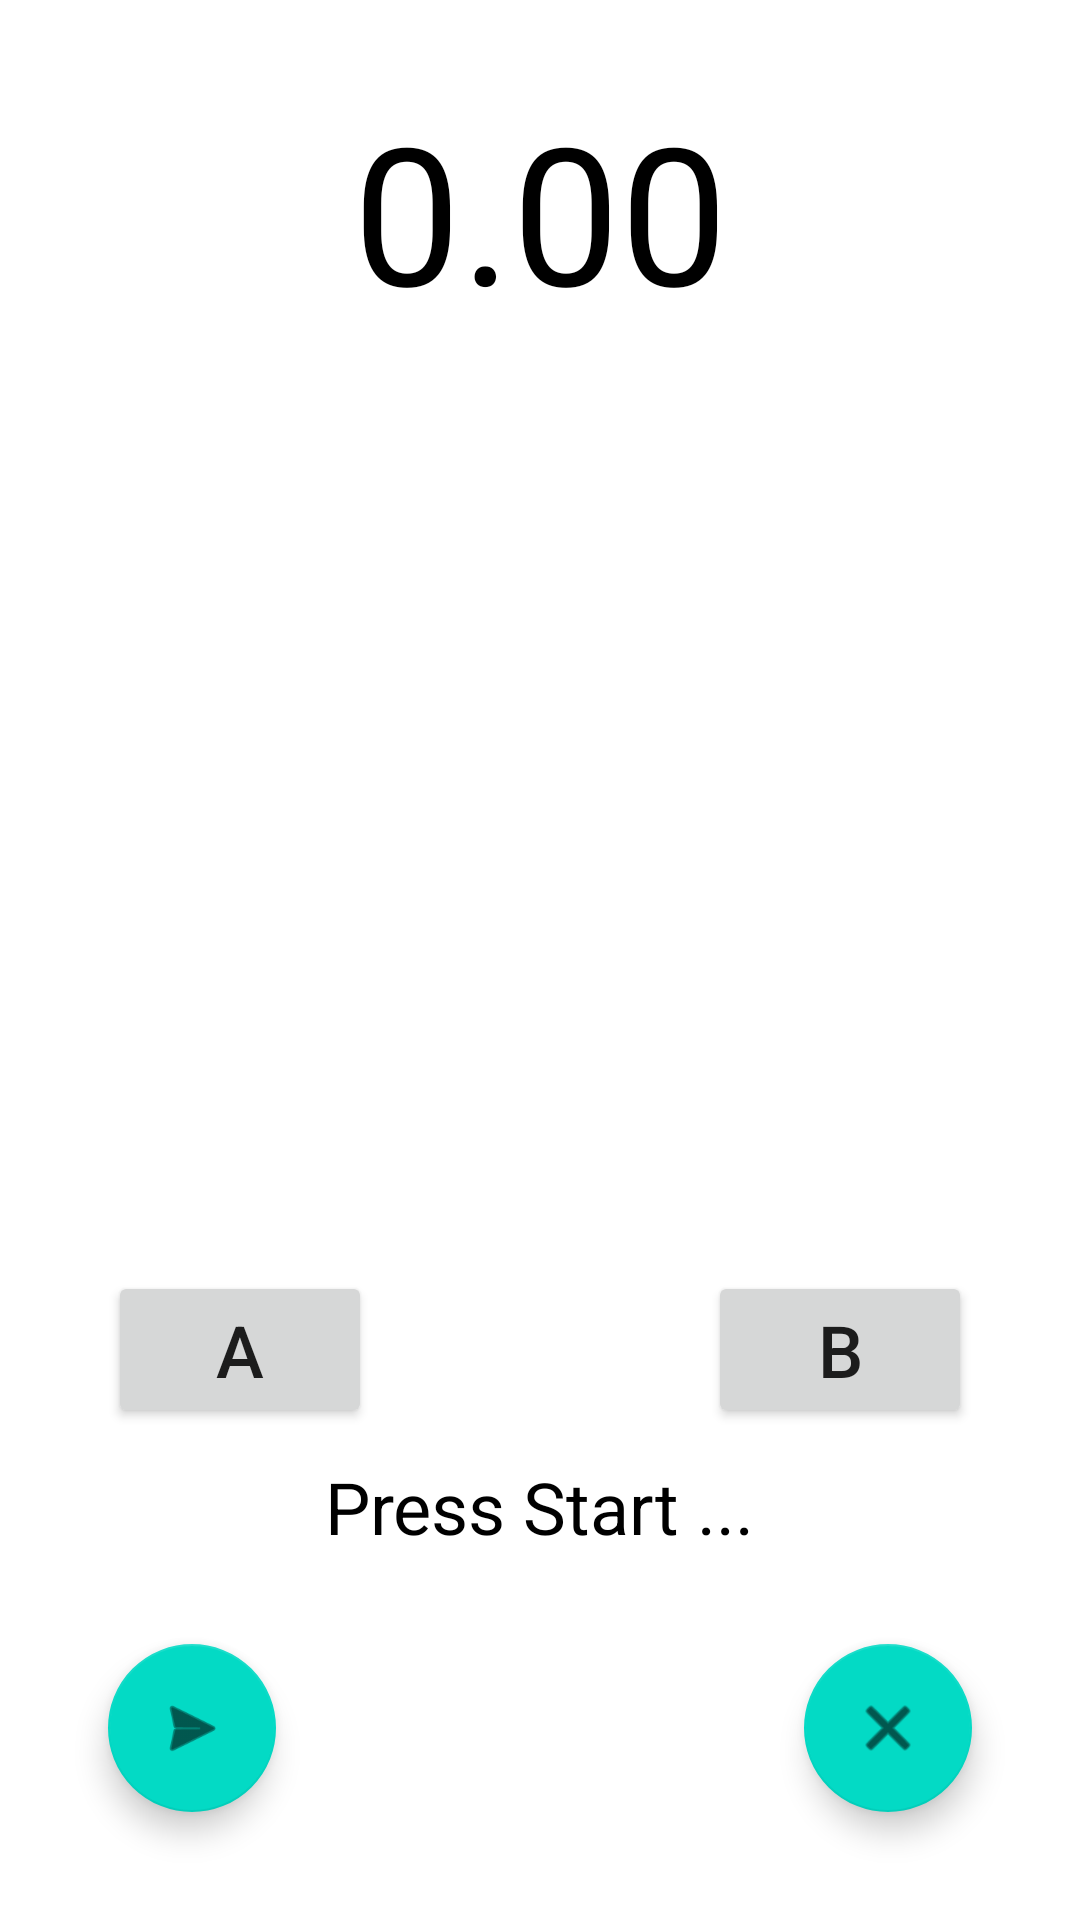

Screen size 1080px×1920px. Icon name, then its box in pixels as [x1,y1,x2,y2]:
close clear cancel: [804,1644,972,1812]
send: [108,1644,276,1812]
